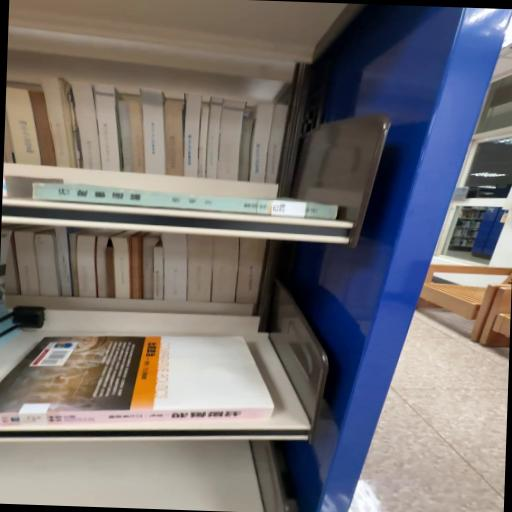flat: (1, 332, 275, 427), (33, 182, 338, 221)
